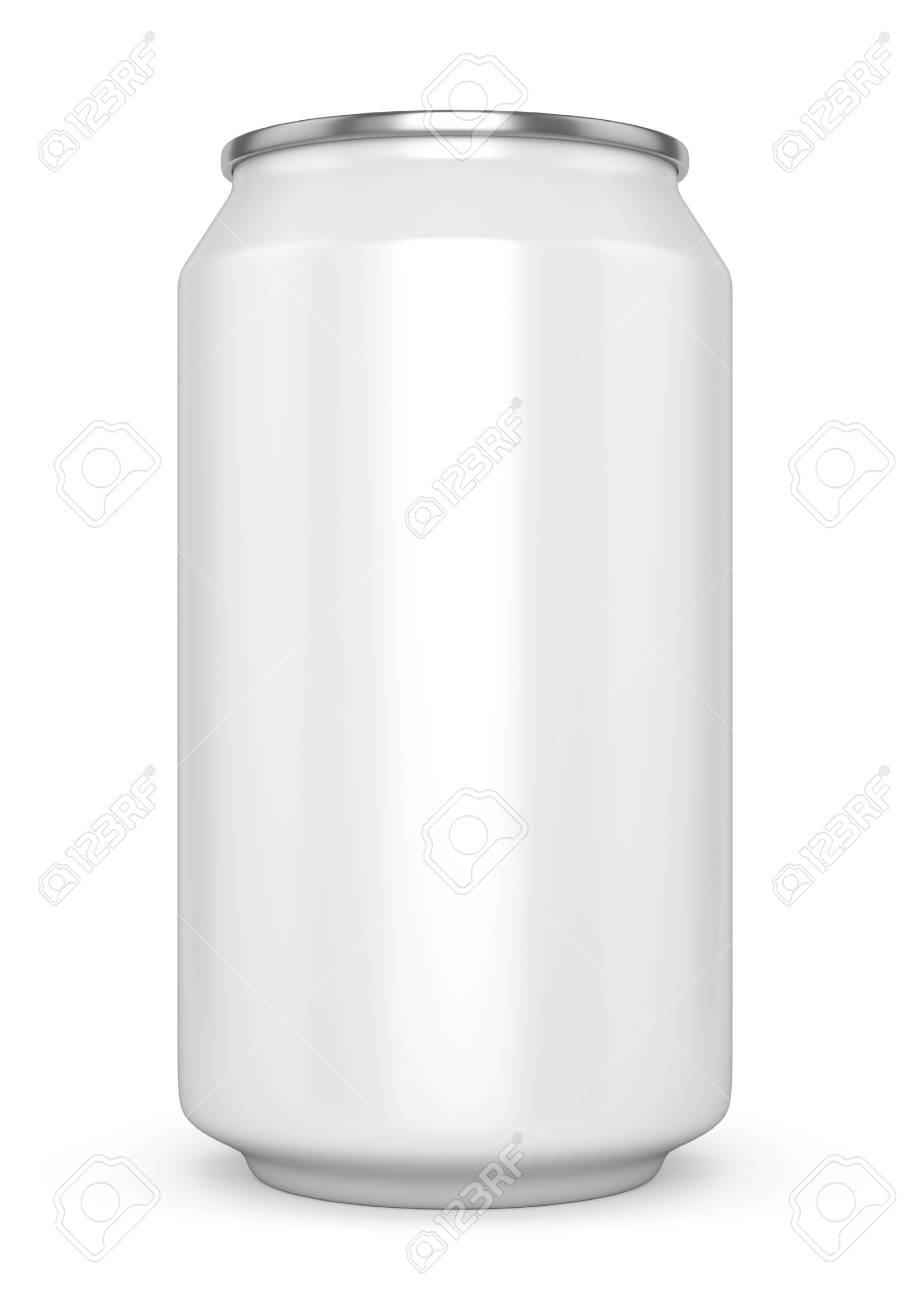metal: (173, 104, 738, 1209)
